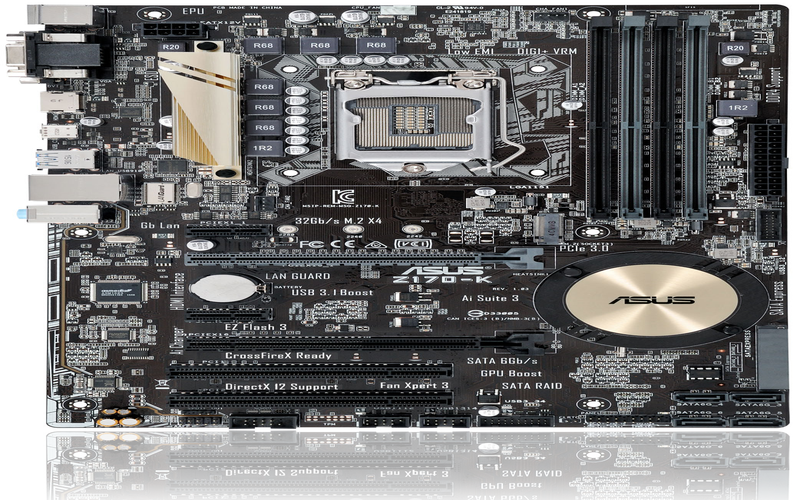Cirtuit-Board: (37, 0, 800, 429)
